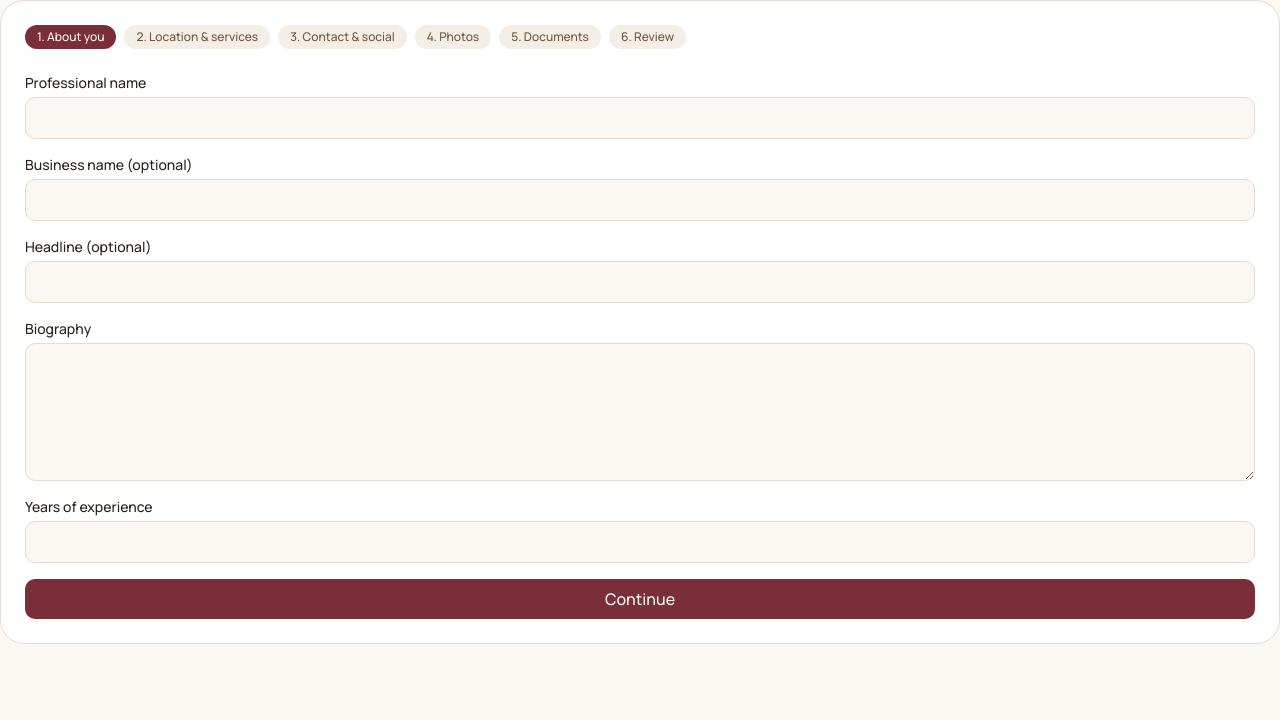
Test: OnboardingWizard › disables submission while requirements are missing on the review step
The width and height of the screenshot is (1280, 720).
What coordinates should you click on to do the following:
click the button "Continue"
I would click on:
 (640, 599)
Its box is [25,579,1255,619].
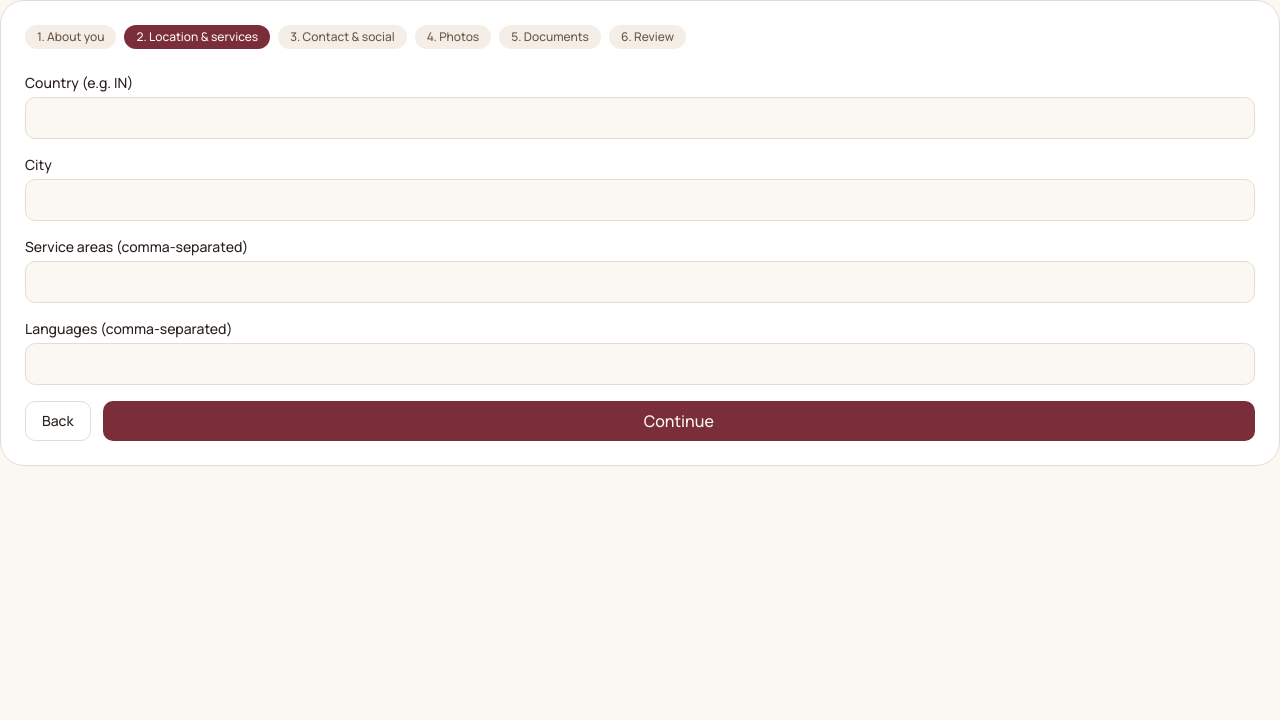
Result: the text "Country (e.g. IN)" is shown at [25,73,133,92]
What coordinates should you click on to do the following:
click the button "Continue"
I would click on:
 (679, 421)
Its box is [102,401,1255,441].
(page scrolled)
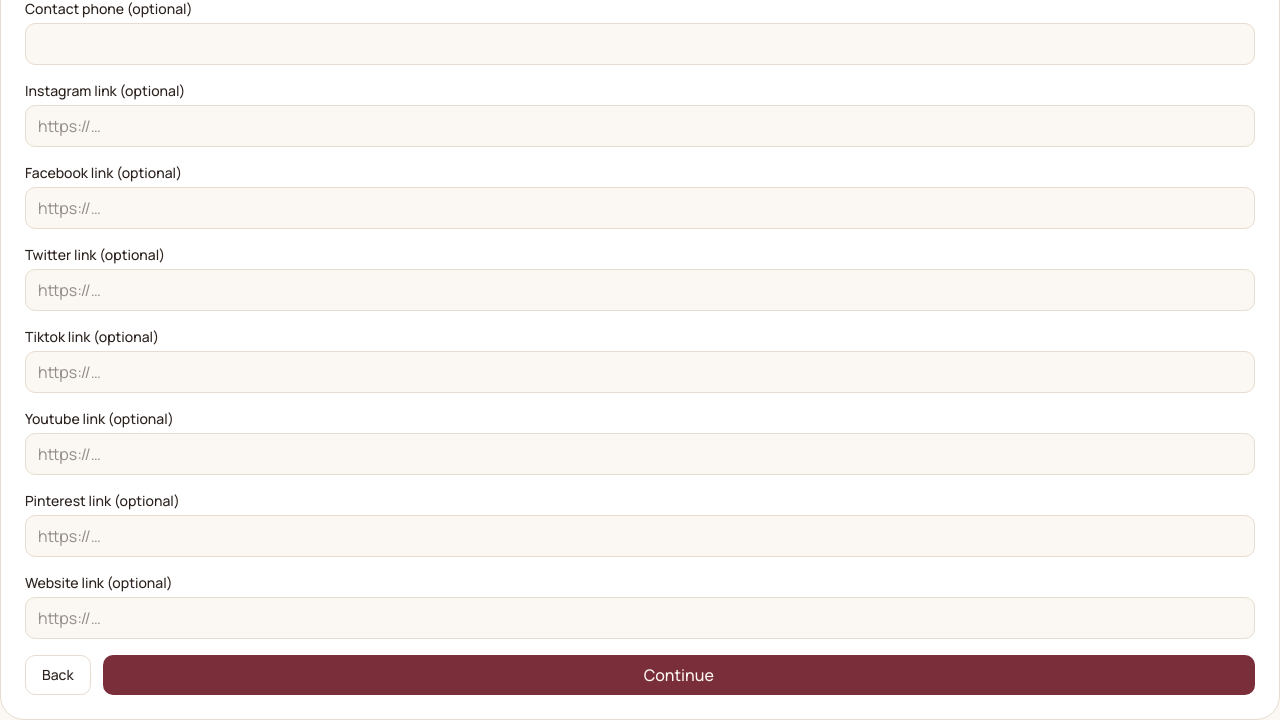
What coordinates should you click on to do the following:
click the button "Continue"
I would click on:
 (679, 675)
Its box is [102,655,1255,695].
(page scrolled)
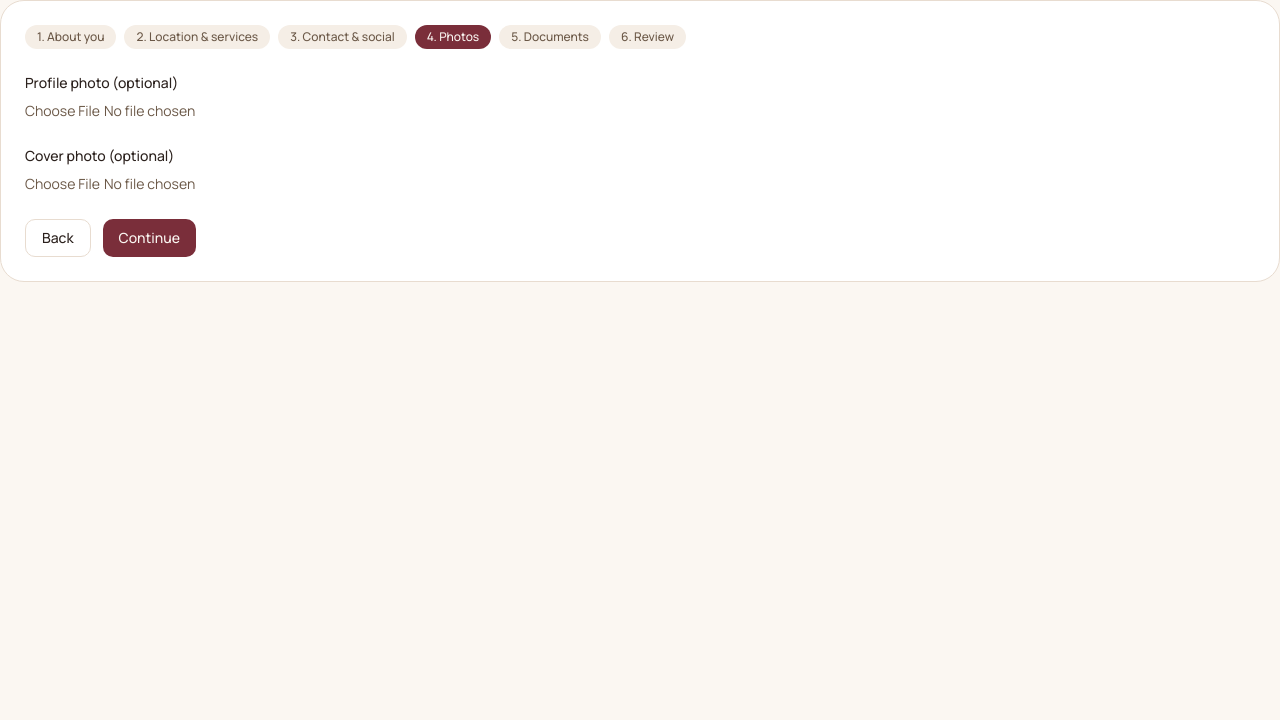
Result: the text "Profile photo (optional)" is shown at [25,73,178,92]
What coordinates should you click on to do the following:
click the button "Continue"
I would click on:
 (149, 238)
Its box is [102,219,196,257].
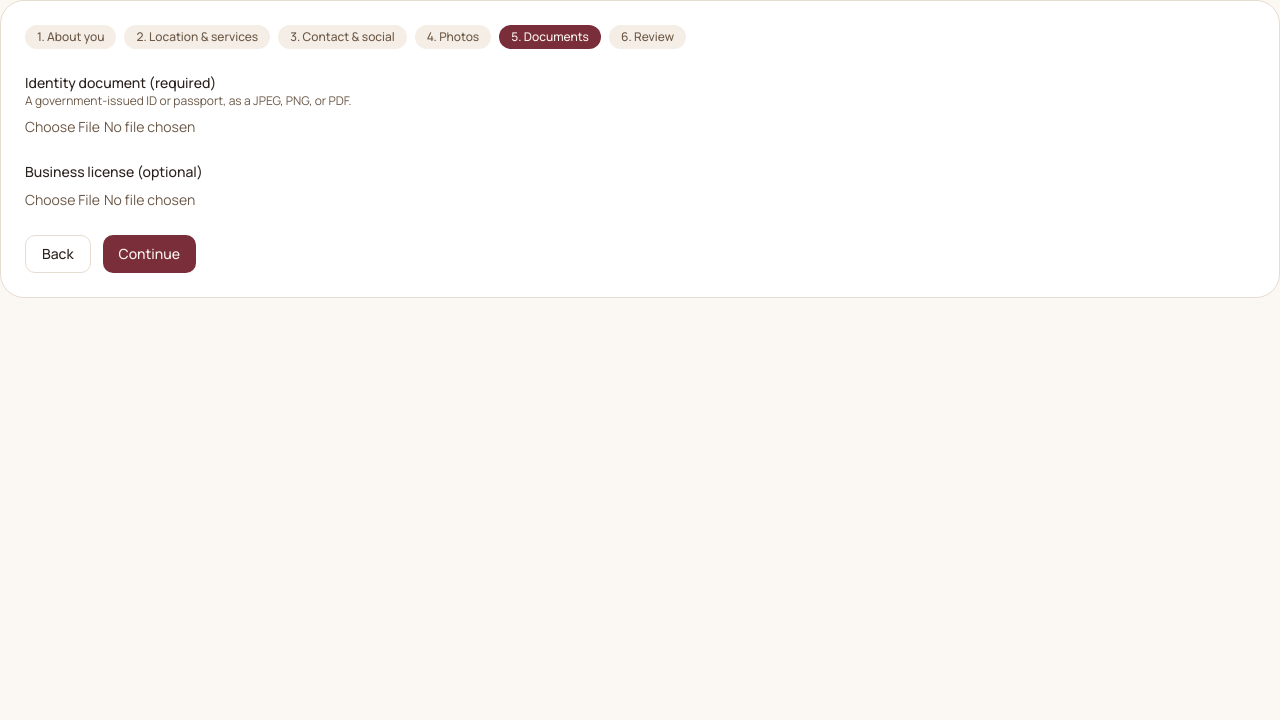
Result: the text "Identity document (required)" is shown at [25,73,216,92]
What coordinates should you click on to do the following:
click the button "Continue"
I would click on:
 (149, 254)
Its box is [102,235,196,273].
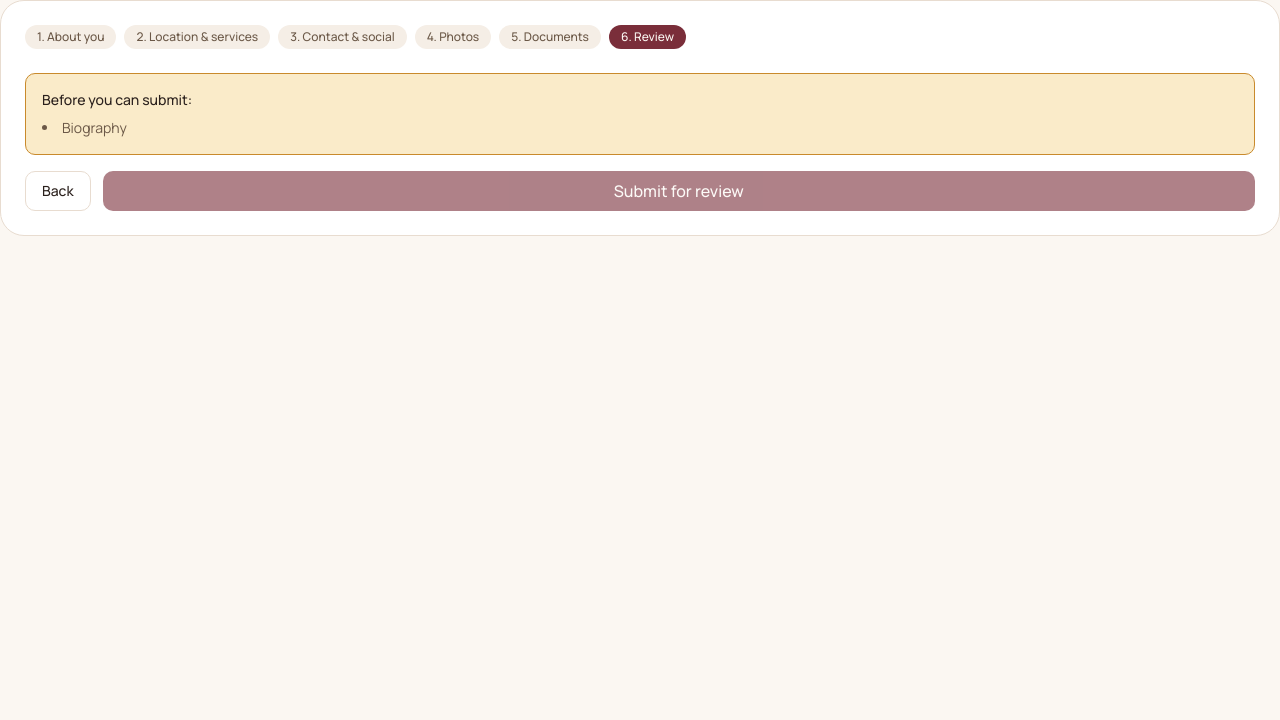
Result: the button "Submit for review" is disabled at [102,171,1255,211]
Result: the list item "Biography" is shown at [62,118,127,137]
